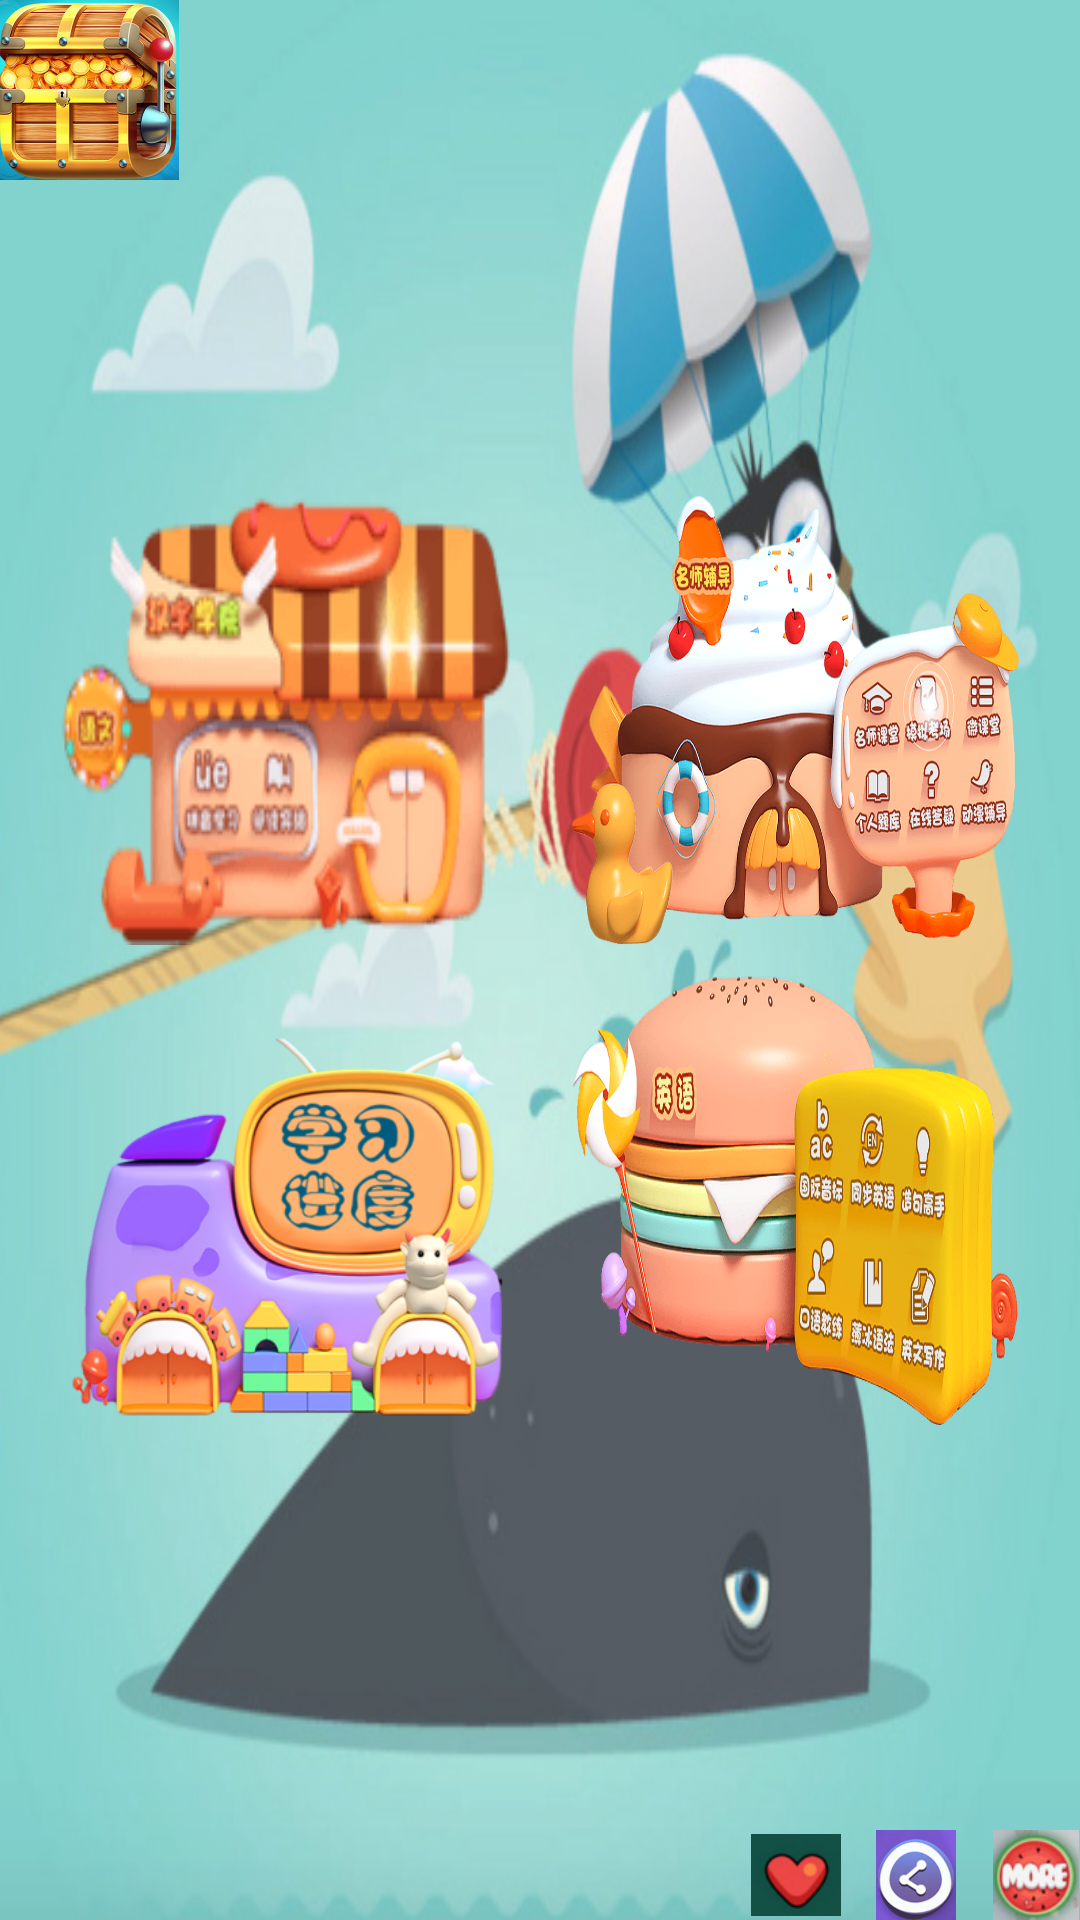

Locate icon controls on the screen. Image size 1080px×1920px, boxes as (x1, y1, x2, y2).
card box: (0, 0, 179, 180)
like: (751, 1834, 841, 1920)
share: (876, 1830, 956, 1920)
